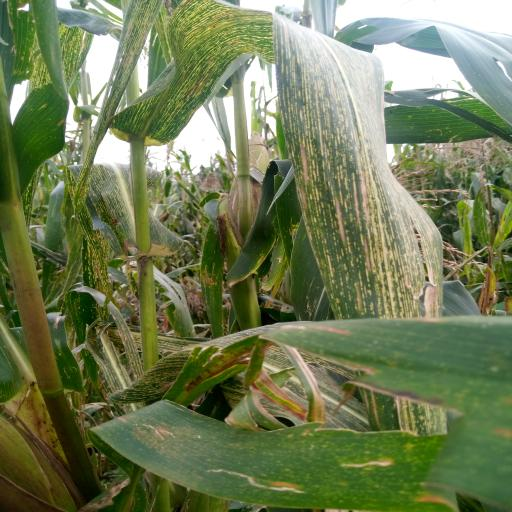Corn_Streak: (113, 2, 441, 324), (105, 317, 512, 512)
